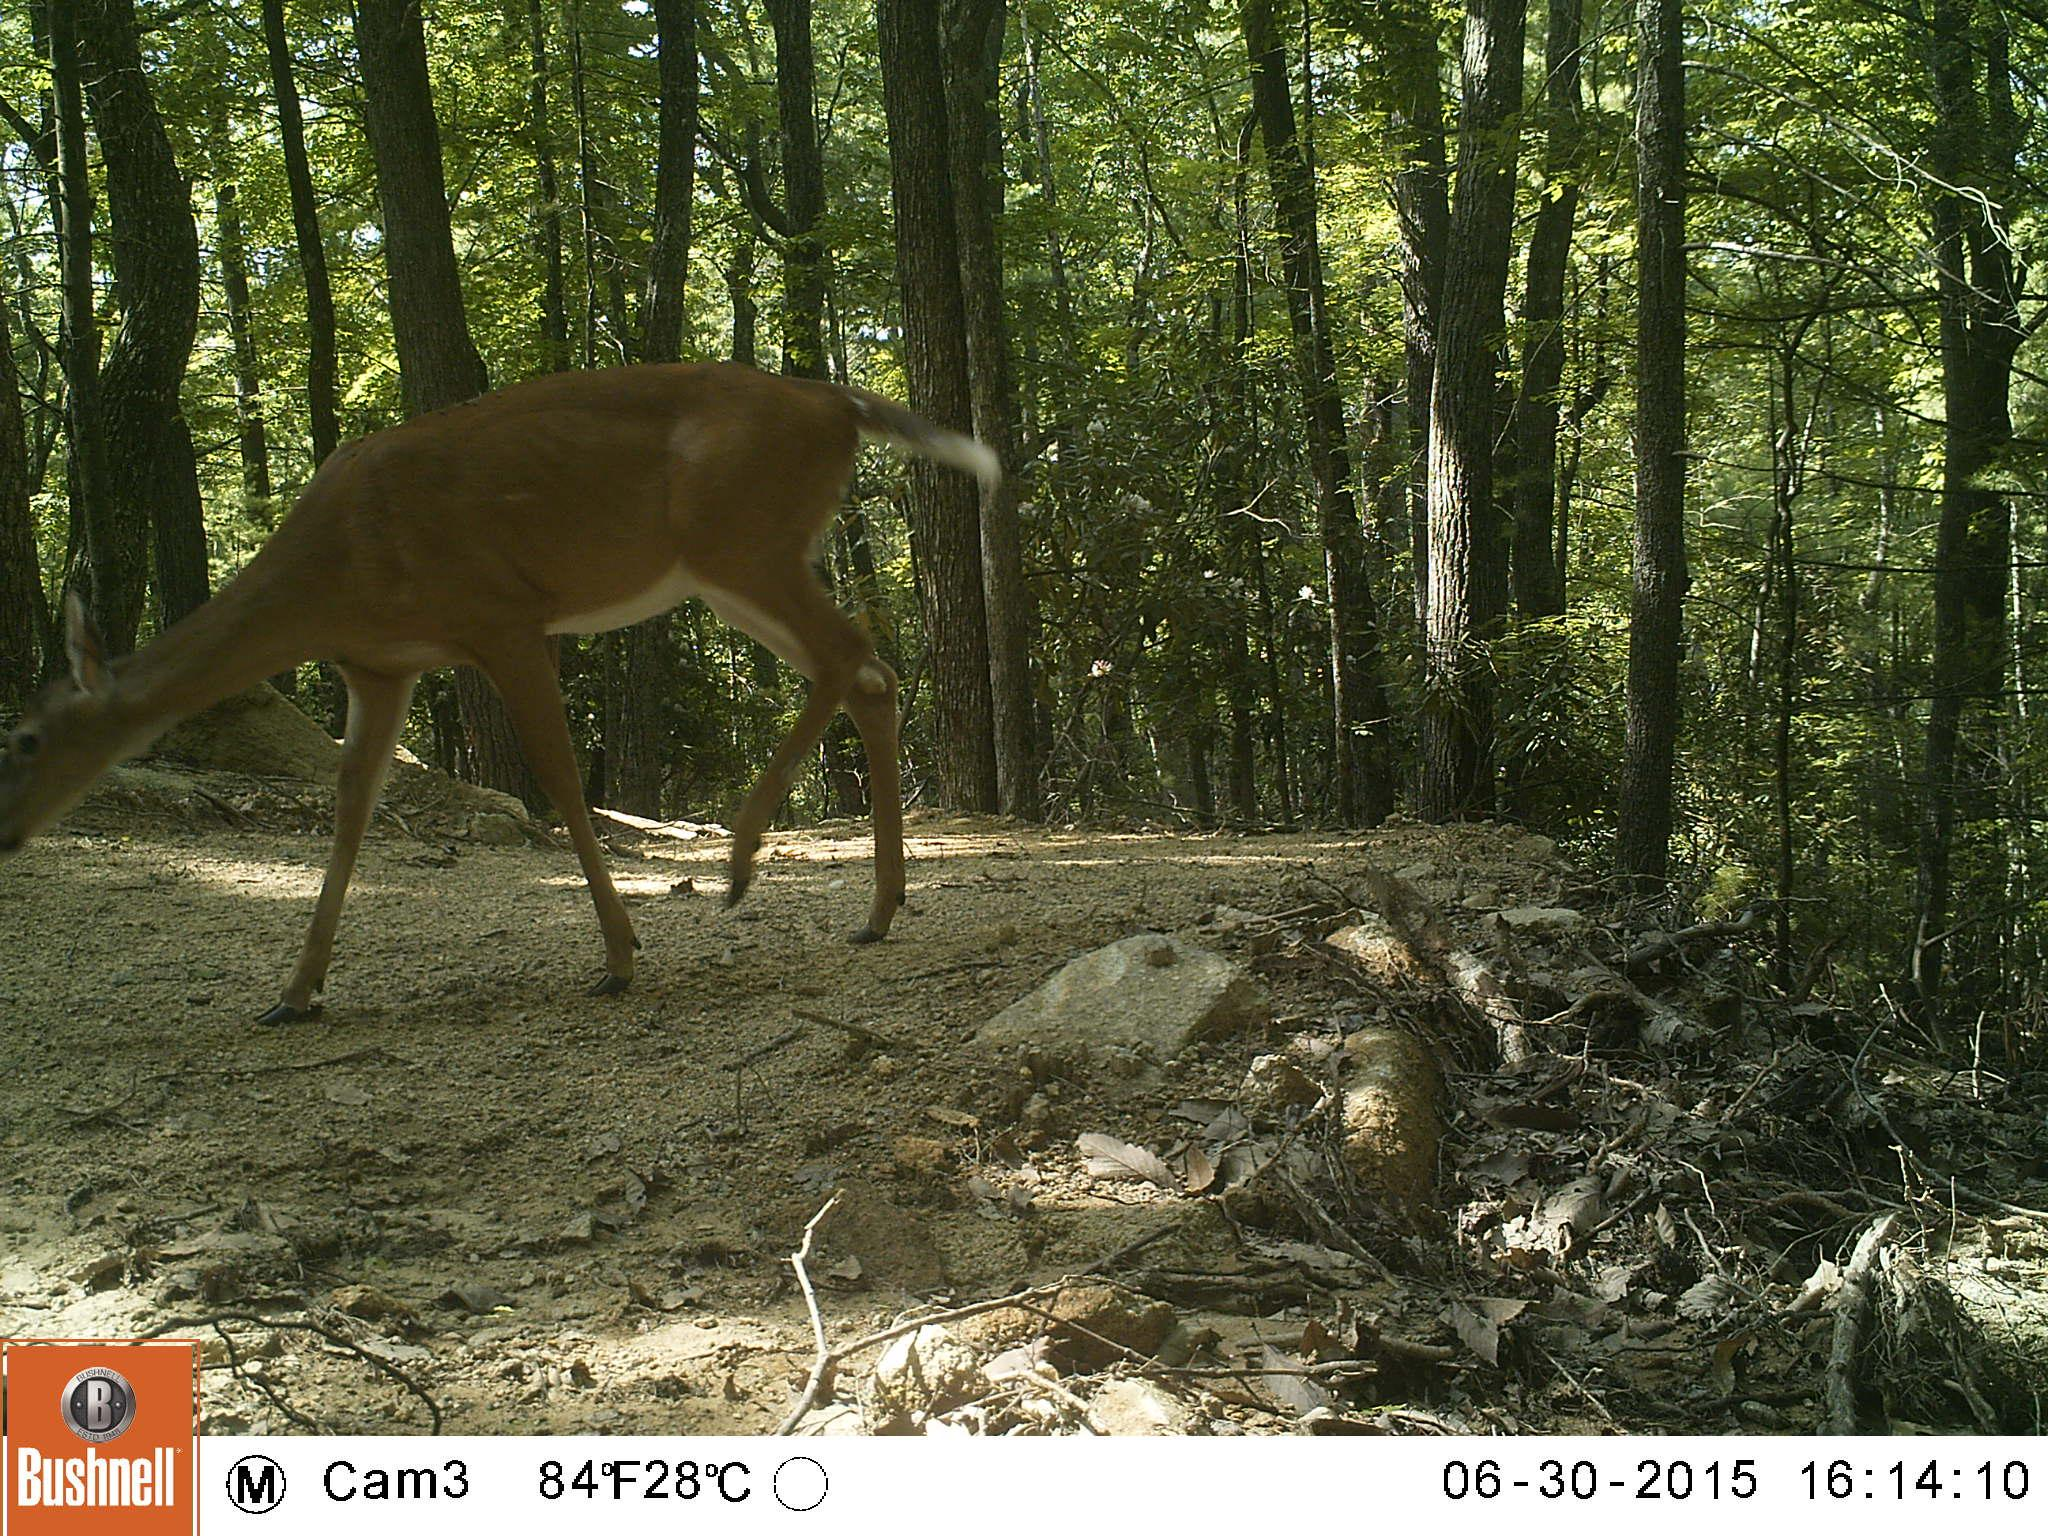Animal: (3, 365, 1001, 1025)
